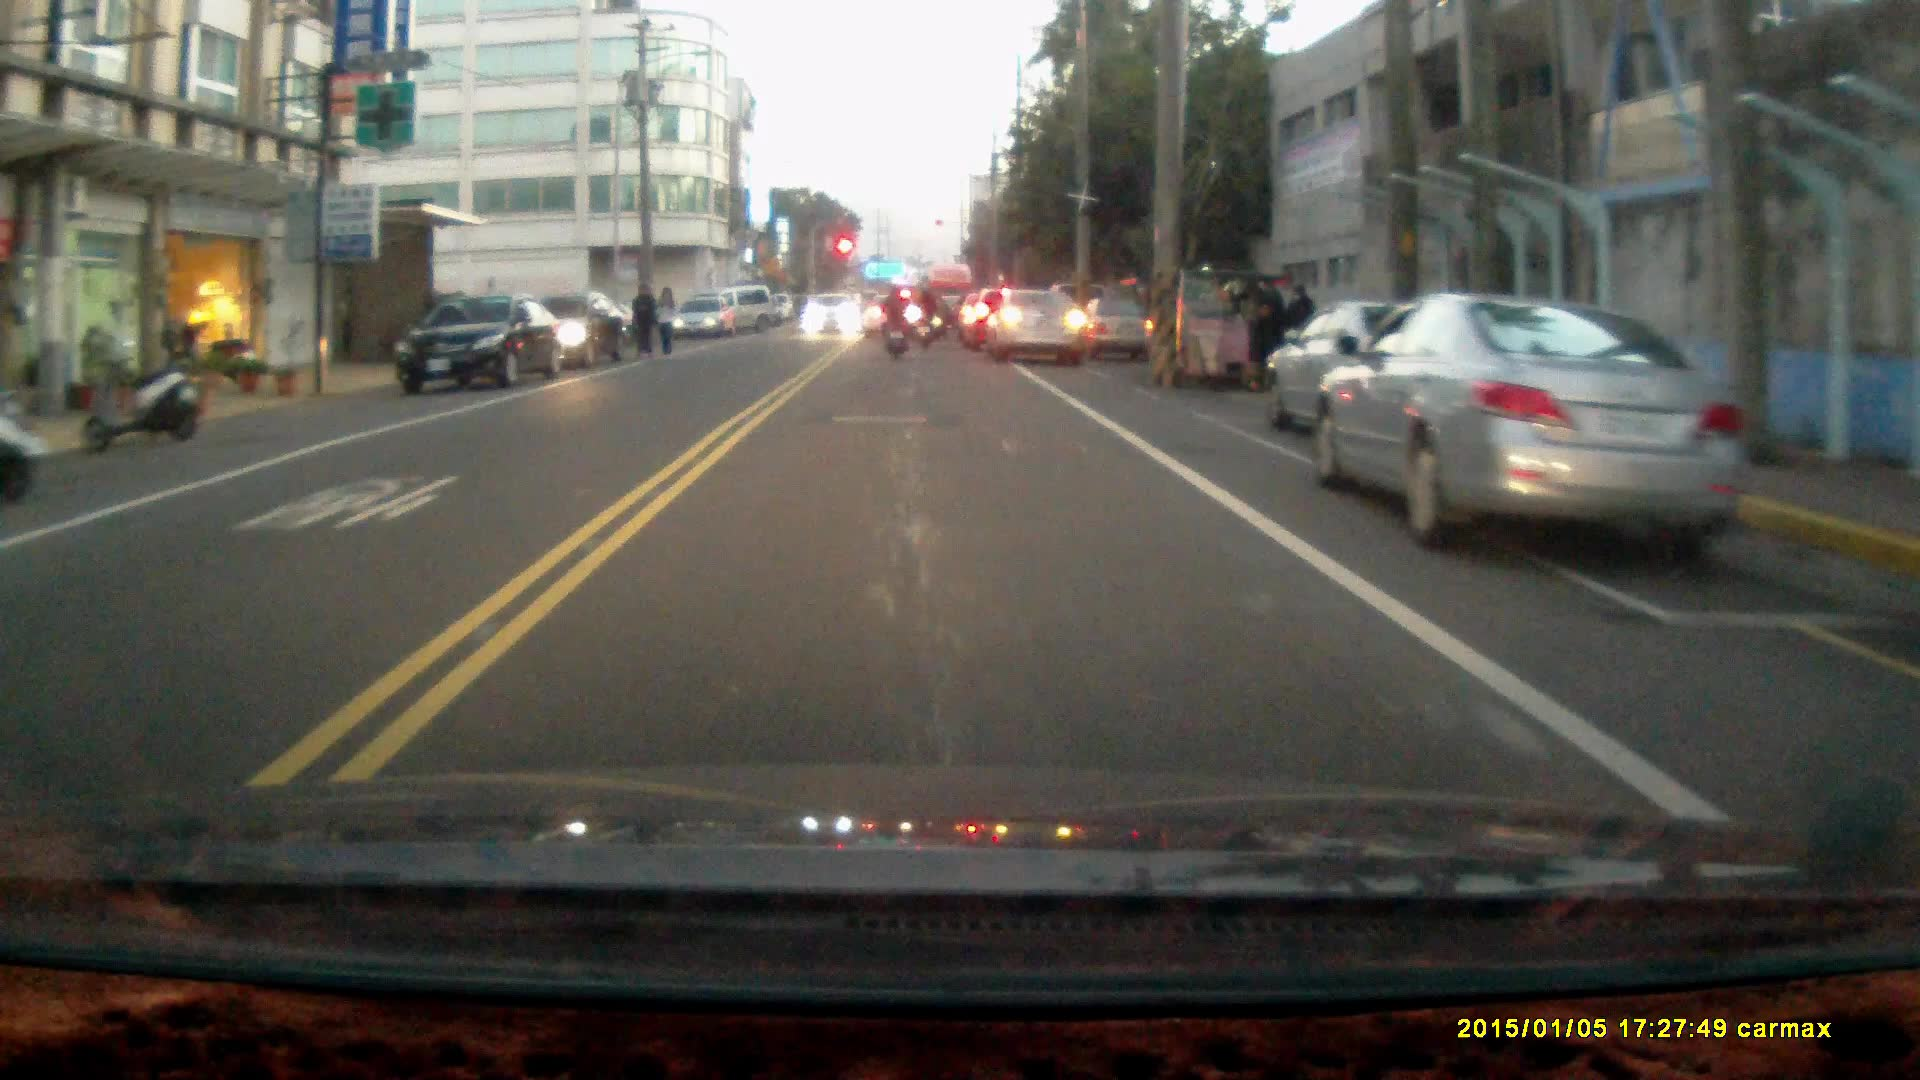pedestrian: (1281, 279, 1317, 371), (629, 280, 659, 361), (654, 283, 676, 360)
rider: (876, 283, 909, 357), (909, 285, 937, 350)
vehicle: (1311, 292, 1742, 559), (1131, 267, 1279, 389), (399, 290, 569, 394), (988, 285, 1092, 364), (673, 296, 735, 341), (802, 294, 861, 341)
